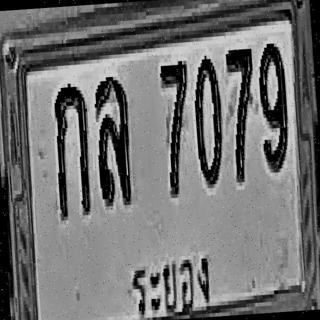A01: (51, 81, 93, 219)
A36: (92, 72, 134, 206)
N00: (190, 51, 226, 185)
N07: (224, 43, 260, 181), (158, 57, 194, 194)
N09: (256, 39, 290, 169)
P53: (127, 244, 218, 320)
